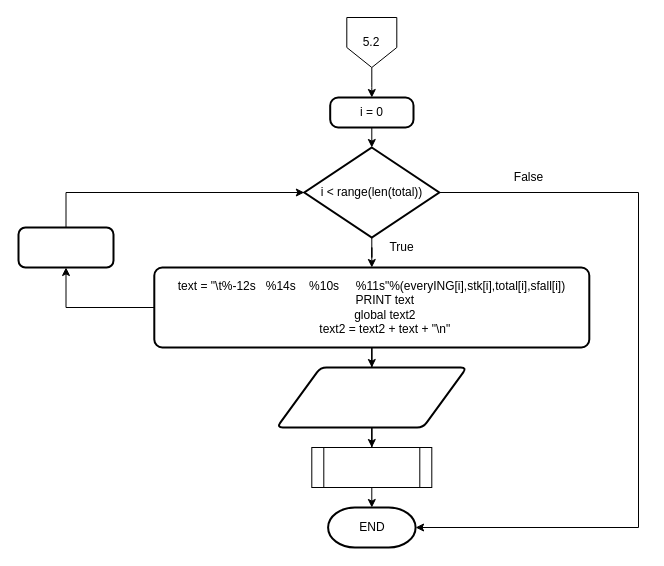
Image size: 664x566. Some labels were removed from this diagram. Each missing label, with the box of its shape:
i = i + 1: (17, 226, 114, 268)
inputsMRP(): (311, 446, 432, 488)
PRINT "\n" PRINT "\t"+"="*60: (275, 366, 467, 428)
